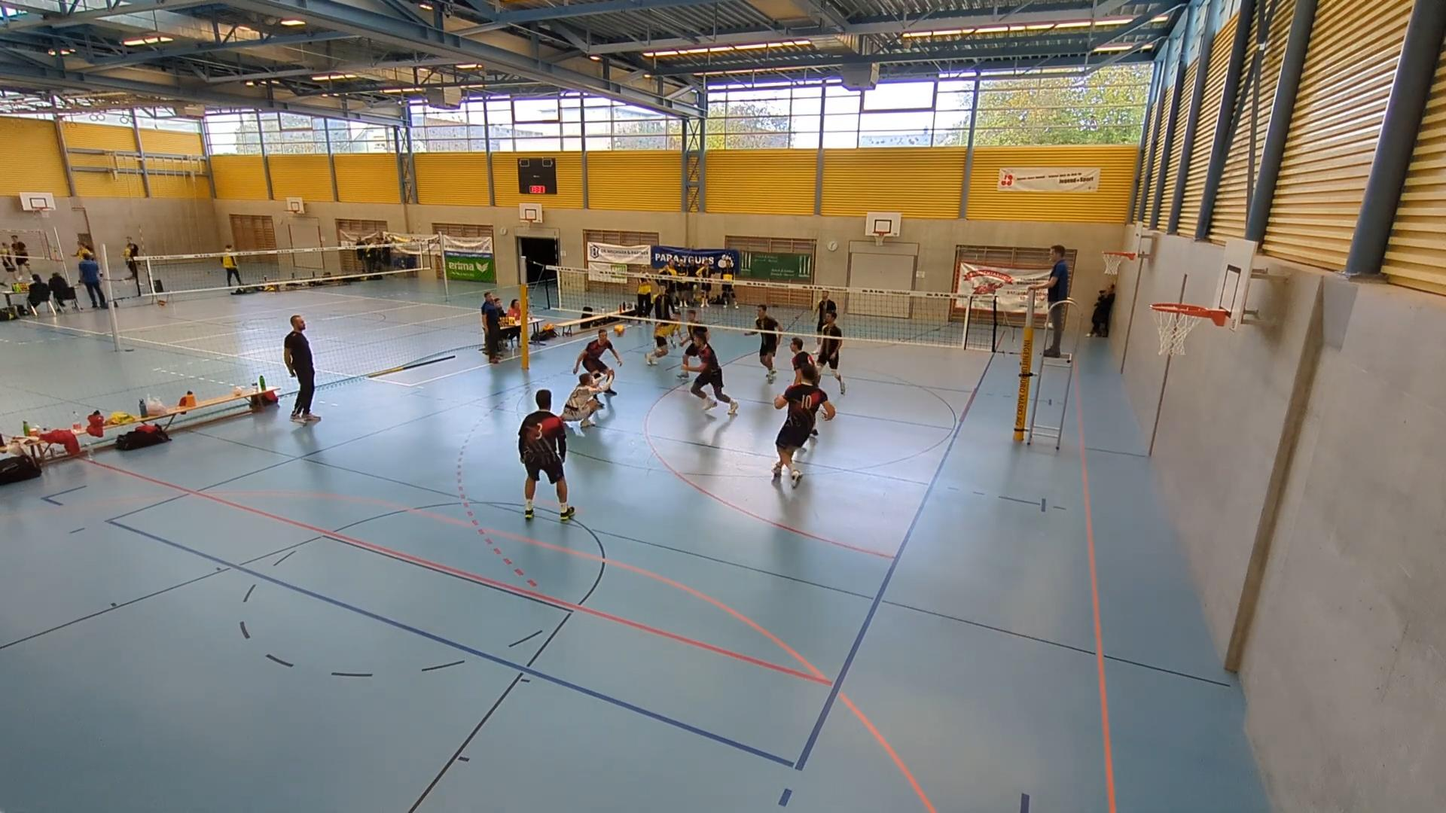Dig: (553, 364, 617, 431)
Player: (519, 389, 575, 520), (773, 366, 834, 486), (682, 327, 738, 415), (573, 328, 621, 394), (745, 305, 780, 382), (816, 312, 846, 393), (645, 295, 678, 364), (790, 336, 814, 385), (790, 336, 813, 384), (679, 308, 701, 352), (816, 290, 837, 333)
